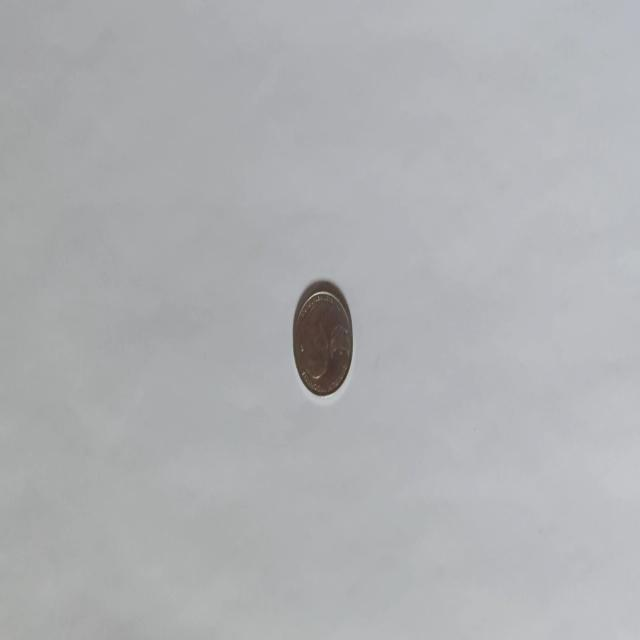seribu rupiah koin: (291, 279, 353, 398)
